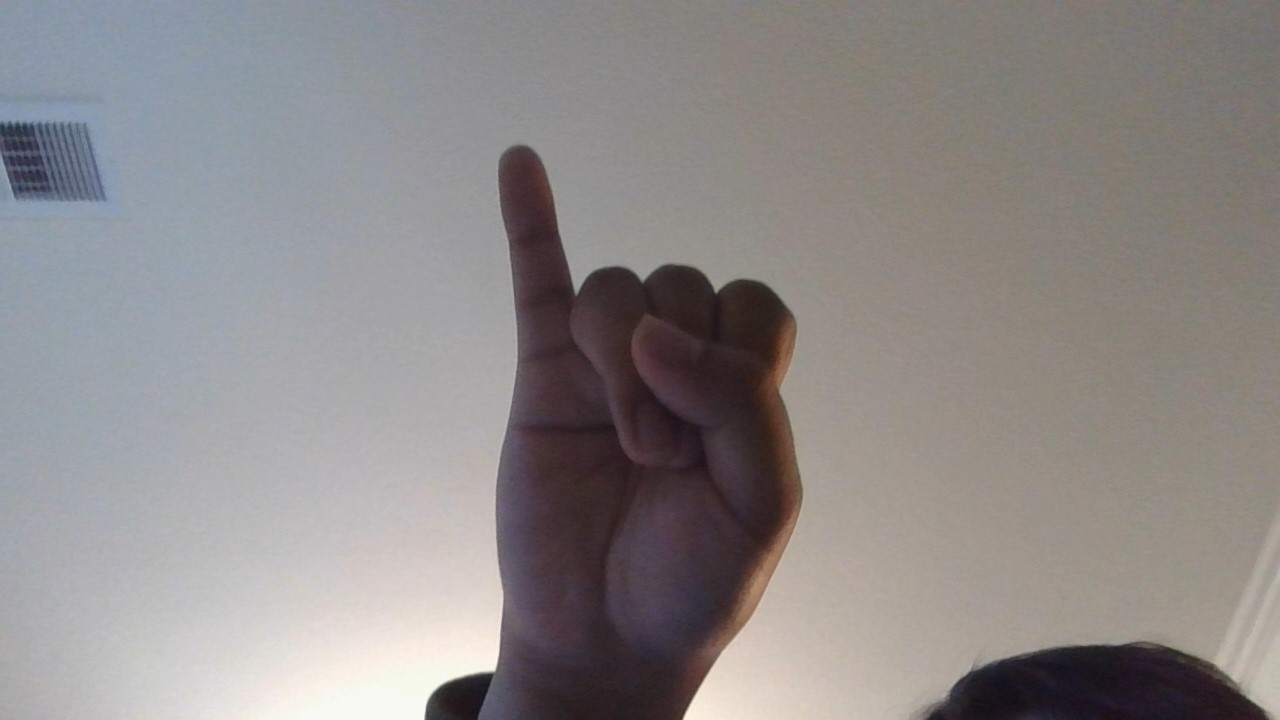i: (454, 132, 832, 707)
